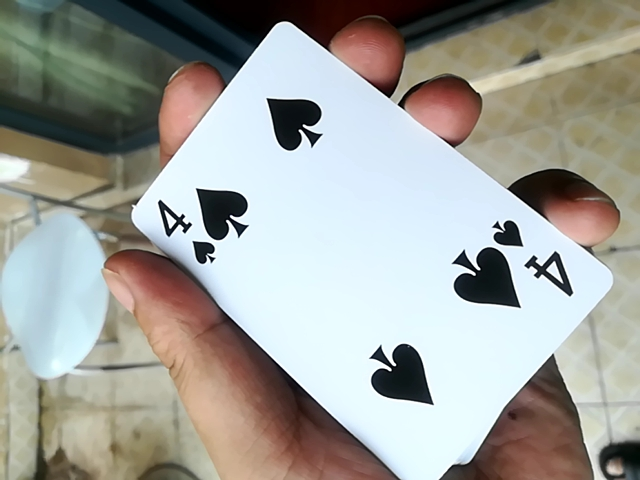ht 4: (119, 17, 606, 477)
